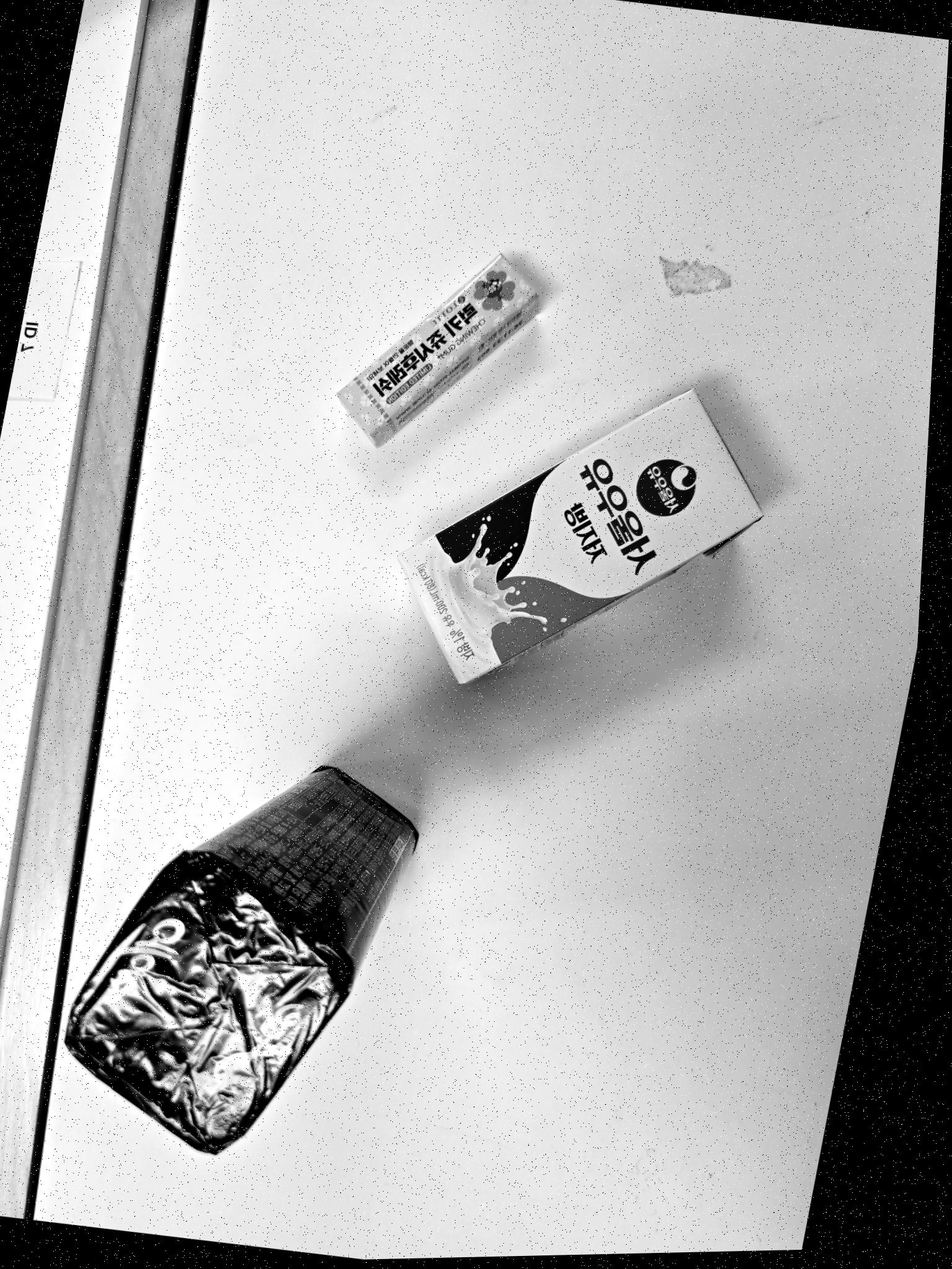cracker_ace: (66, 767, 418, 1154)
gum_yellow: (338, 254, 539, 446)
milk_blue: (399, 391, 761, 684)
